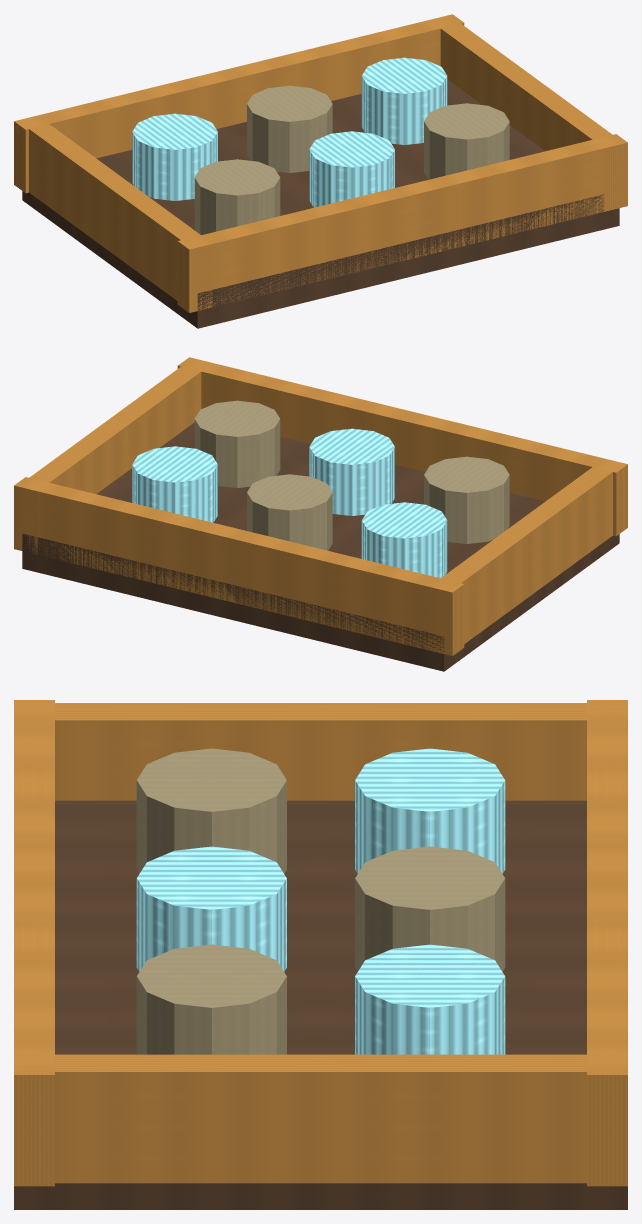
File: atlas100-s014-a03.glb
3 renders of one model, top to bottom at view 1: azimuth 30°, elevation 25°; view 2: azimuth 150°, elevation 25°; view 3: azimuth 270°, elevation 25°, orthographic. The views are drawn at different scales.
Visible parts, largest first — view 1: atlas100-s014-a03:part-002, atlas100-s014-a03:part-000, atlas100-s014-a03:part-001, atlas100-s014-a03:part-003, atlas100-s014-a03:part-004, atlas100-s014-a03:part-005, atlas100-s014-a03:part-007, atlas100-s014-a03:part-006, atlas100-s014-a03:part-008, atlas100-s014-a03:part-009, atlas100-s014-a03:part-010; view 2: atlas100-s014-a03:part-001, atlas100-s014-a03:part-000, atlas100-s014-a03:part-002, atlas100-s014-a03:part-003, atlas100-s014-a03:part-004, atlas100-s014-a03:part-008, atlas100-s014-a03:part-010, atlas100-s014-a03:part-009, atlas100-s014-a03:part-005, atlas100-s014-a03:part-006, atlas100-s014-a03:part-007; view 3: atlas100-s014-a03:part-000, atlas100-s014-a03:part-004, atlas100-s014-a03:part-003, atlas100-s014-a03:part-001, atlas100-s014-a03:part-002, atlas100-s014-a03:part-007, atlas100-s014-a03:part-010, atlas100-s014-a03:part-006, atlas100-s014-a03:part-009, atlas100-s014-a03:part-005, atlas100-s014-a03:part-008.
Boxes of the visible parts, box(x1,y1,x2,y2) form: atlas100-s014-a03:part-002: box(177, 134, 627, 312); atlas100-s014-a03:part-000: box(22, 79, 619, 328); atlas100-s014-a03:part-001: box(14, 14, 464, 193); atlas100-s014-a03:part-003: box(29, 124, 212, 311); atlas100-s014-a03:part-004: box(430, 15, 624, 211); atlas100-s014-a03:part-005: box(132, 113, 217, 200); atlas100-s014-a03:part-007: box(361, 57, 447, 144); atlas100-s014-a03:part-006: box(247, 85, 332, 172); atlas100-s014-a03:part-008: box(194, 159, 280, 235); atlas100-s014-a03:part-009: box(309, 131, 394, 207); atlas100-s014-a03:part-010: box(424, 103, 509, 179); atlas100-s014-a03:part-001: box(14, 477, 464, 655); atlas100-s014-a03:part-000: box(22, 422, 619, 671); atlas100-s014-a03:part-002: box(177, 357, 627, 536); atlas100-s014-a03:part-003: box(429, 467, 612, 654); atlas100-s014-a03:part-004: box(17, 358, 211, 554); atlas100-s014-a03:part-008: box(424, 456, 509, 543); atlas100-s014-a03:part-010: box(194, 400, 280, 487); atlas100-s014-a03:part-009: box(309, 428, 394, 515); atlas100-s014-a03:part-005: box(361, 502, 447, 578); atlas100-s014-a03:part-006: box(247, 474, 332, 550); atlas100-s014-a03:part-007: box(132, 446, 217, 522); atlas100-s014-a03:part-000: box(14, 800, 627, 1209); atlas100-s014-a03:part-004: box(14, 1054, 627, 1183); atlas100-s014-a03:part-003: box(14, 703, 627, 800); atlas100-s014-a03:part-001: box(587, 700, 627, 1186); atlas100-s014-a03:part-002: box(14, 700, 54, 1186); atlas100-s014-a03:part-007: box(355, 944, 505, 1054); atlas100-s014-a03:part-010: box(136, 944, 286, 1054); atlas100-s014-a03:part-006: box(355, 846, 505, 971); atlas100-s014-a03:part-009: box(136, 846, 286, 971); atlas100-s014-a03:part-005: box(355, 748, 505, 873); atlas100-s014-a03:part-008: box(136, 748, 286, 873).
Size of the model in its own units: 1.36 by 0.2563 by 0.9414.
4 materials, 4 textured.
